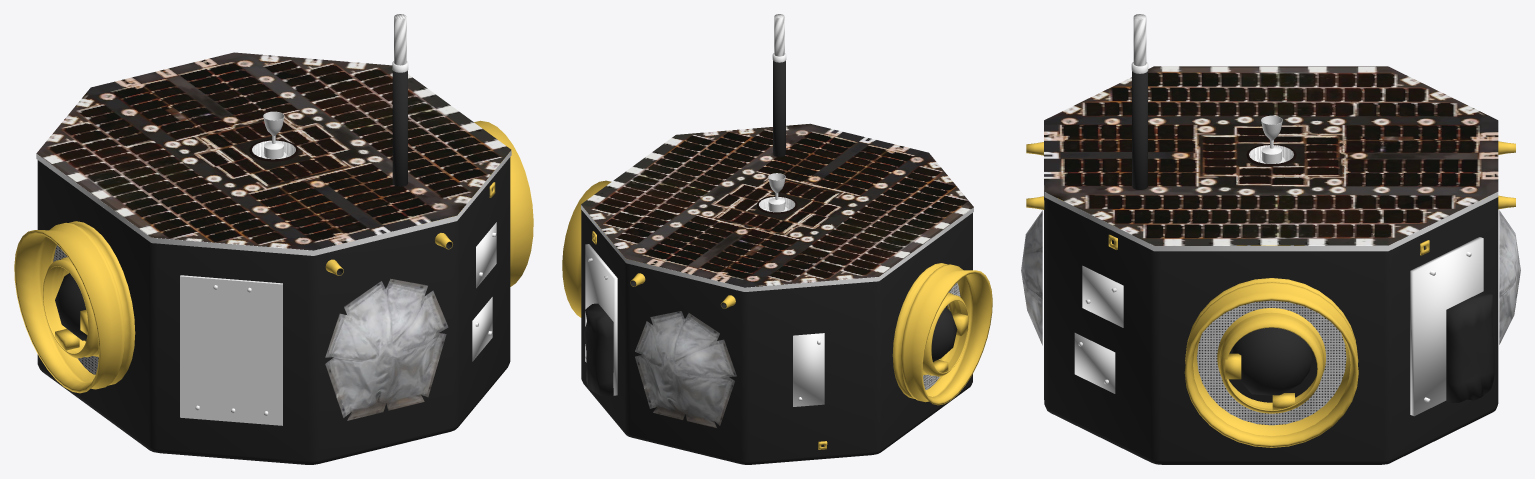
Rendered from iBEX.gltf.
The picture shows the model from 3 angles, left to right: view 1: azimuth 30°, elevation 25°; view 2: azimuth 150°, elevation 25°; view 3: azimuth 270°, elevation 25°; orthographic projection. The views are drawn at different scales.
Parts seen in each view (by area): view 1: shiny_panel, BUS, foil_silver, foil_gold, tex_01; view 2: BUS, shiny_panel, foil_gold, tex_01, foil_silver; view 3: BUS, shiny_panel, foil_silver, foil_gold, tex_01.
Part boxes in pixels (box(x1,y1,x2,y2)): shiny_panel: box(36, 52, 511, 250); BUS: box(37, 70, 510, 464); foil_silver: box(36, 61, 511, 425); foil_gold: box(14, 120, 533, 393); tex_01: box(53, 14, 448, 420); BUS: box(581, 60, 972, 464); shiny_panel: box(581, 123, 973, 287); foil_gold: box(562, 180, 992, 449); tex_01: box(635, 14, 960, 427); foil_silver: box(581, 53, 973, 406); BUS: box(1044, 71, 1498, 464); shiny_panel: box(1044, 66, 1498, 245); foil_silver: box(1044, 62, 1498, 416); foil_gold: box(1026, 141, 1515, 447); tex_01: box(1021, 14, 1520, 425).
Bounding box in the file's own units: 1.18 × 0.9804 × 1.12.
5 materials, 2 textured.
